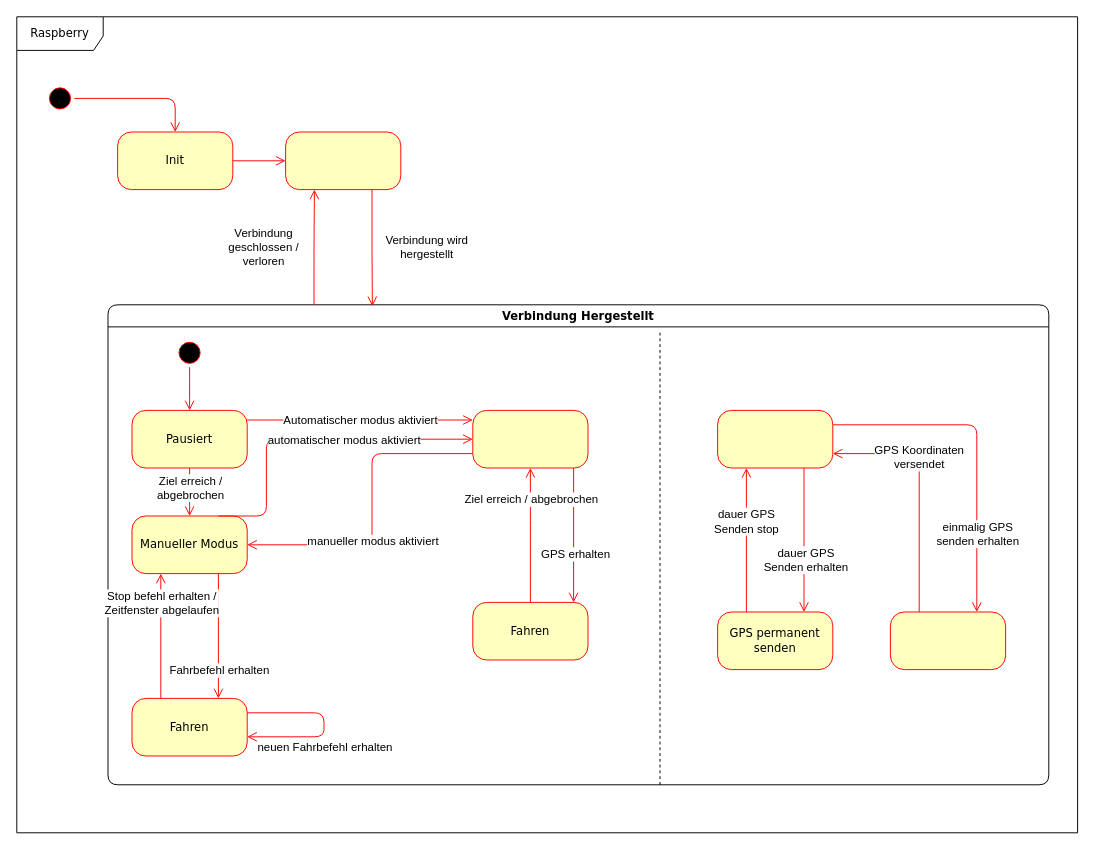
The diagram is 1094 pixels wide and 850 high, and some of its shapes have lost their labels. The box of each missing label's shape, as (x1, y1, x2, y2) in pixels:
Auf Verbindung wartend: (285, 131, 401, 190)
automatisch: (472, 409, 588, 468)
GPS einmalig senden: (889, 611, 1006, 670)
GPS inaktiv: (717, 409, 833, 468)
